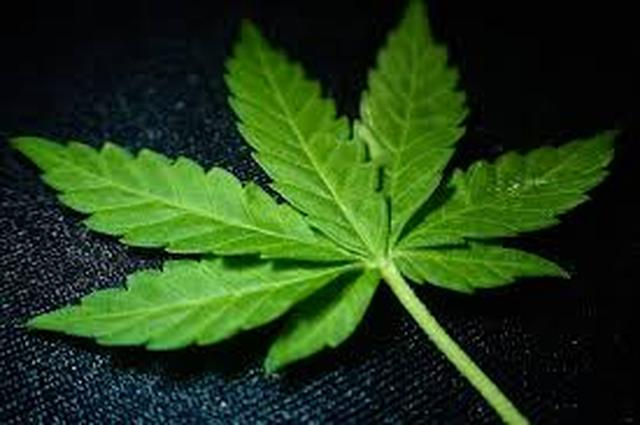Marijuana Bud: (19, 11, 629, 390)
